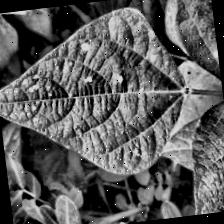Bean Rust: (0, 4, 192, 187), (178, 95, 224, 215)
